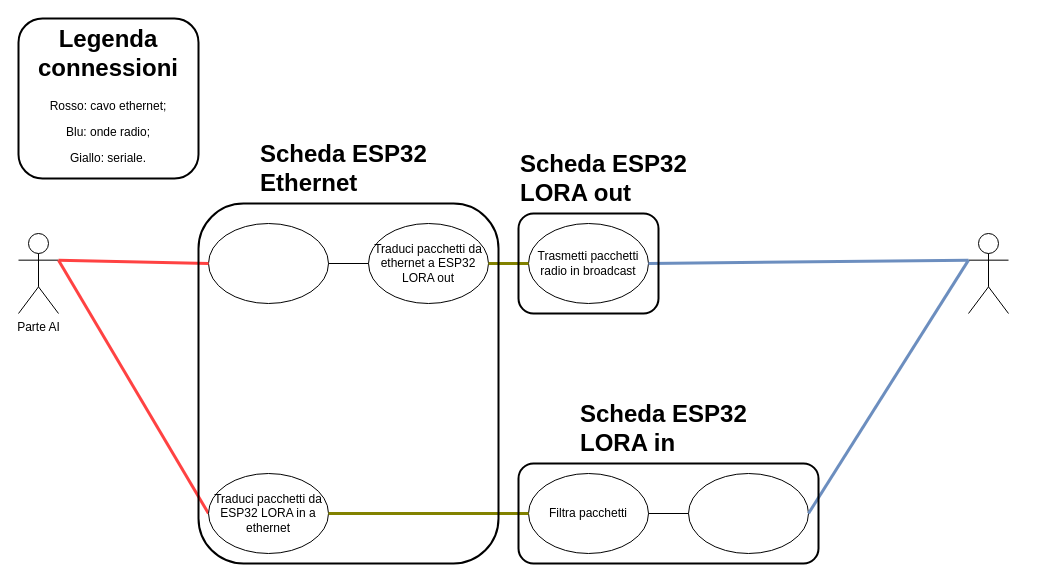
Image size: 1043x581. Some labels were removed from this diagram. The shapes that lost their labels are listed below. From the top down, each one's centre as x and y in pixels, then its label:
At (x=268, y=263): "Ricevi dati da parte AI".
At (x=988, y=273): "Possibile auto".
At (x=748, y=513): "Ricevi dati da parte broadcast".
